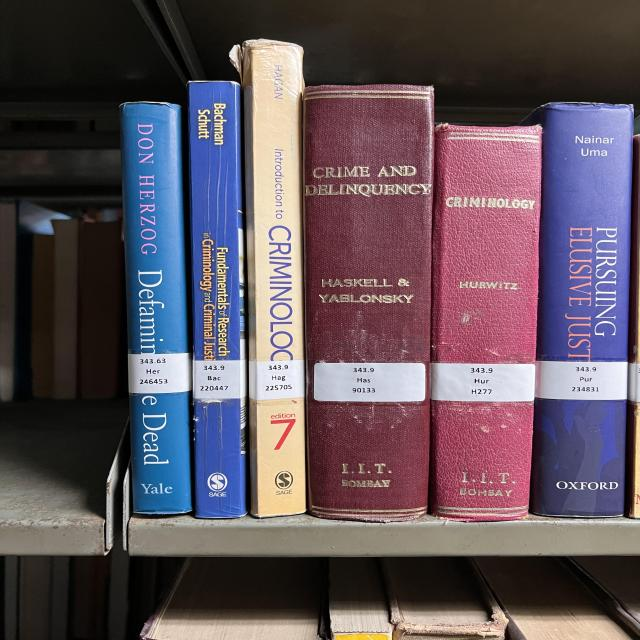Book: (303, 85, 433, 521), (523, 102, 633, 518), (430, 125, 542, 521), (230, 39, 307, 518), (122, 102, 192, 514), (188, 81, 247, 519), (142, 558, 327, 640), (473, 556, 633, 640), (382, 558, 508, 640), (328, 558, 393, 640), (572, 556, 640, 621)
Label: (313, 362, 425, 402), (432, 362, 535, 402), (535, 361, 628, 400), (128, 352, 190, 394), (248, 360, 305, 400), (193, 360, 247, 399)
